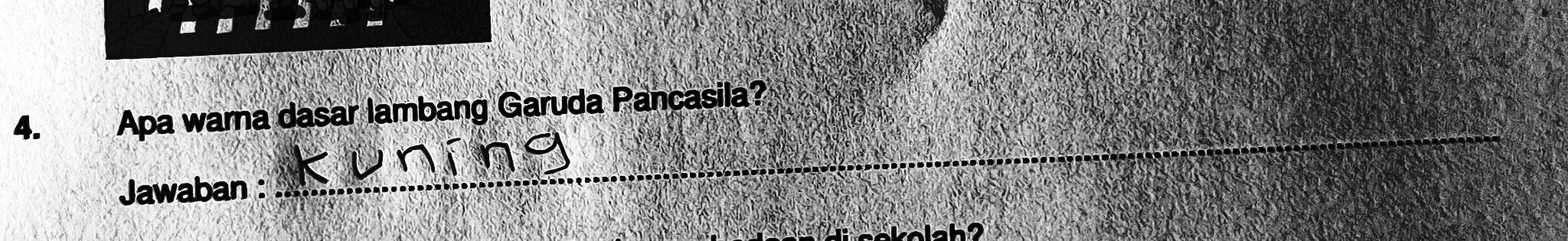jawaban: (289, 128, 577, 186)
